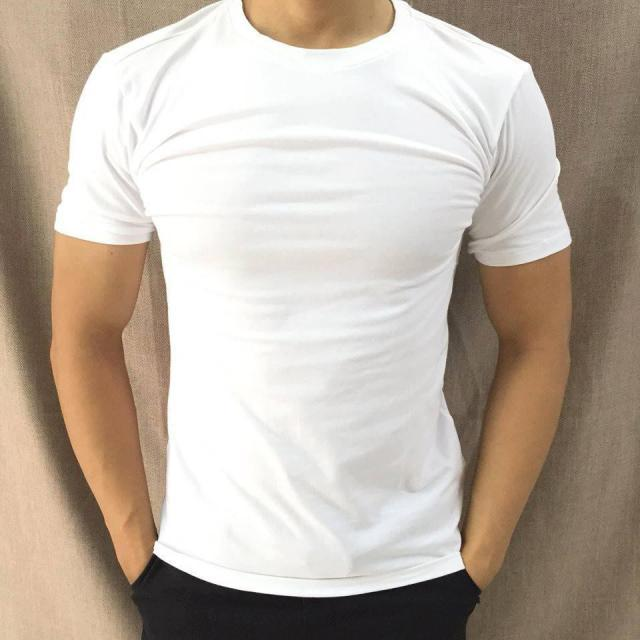Shirt: (55, 0, 572, 594)
